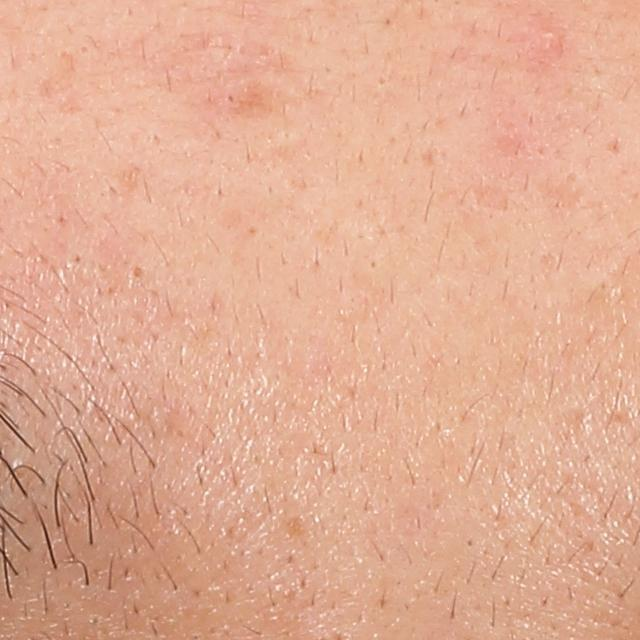comedo: (128, 262, 149, 285)
